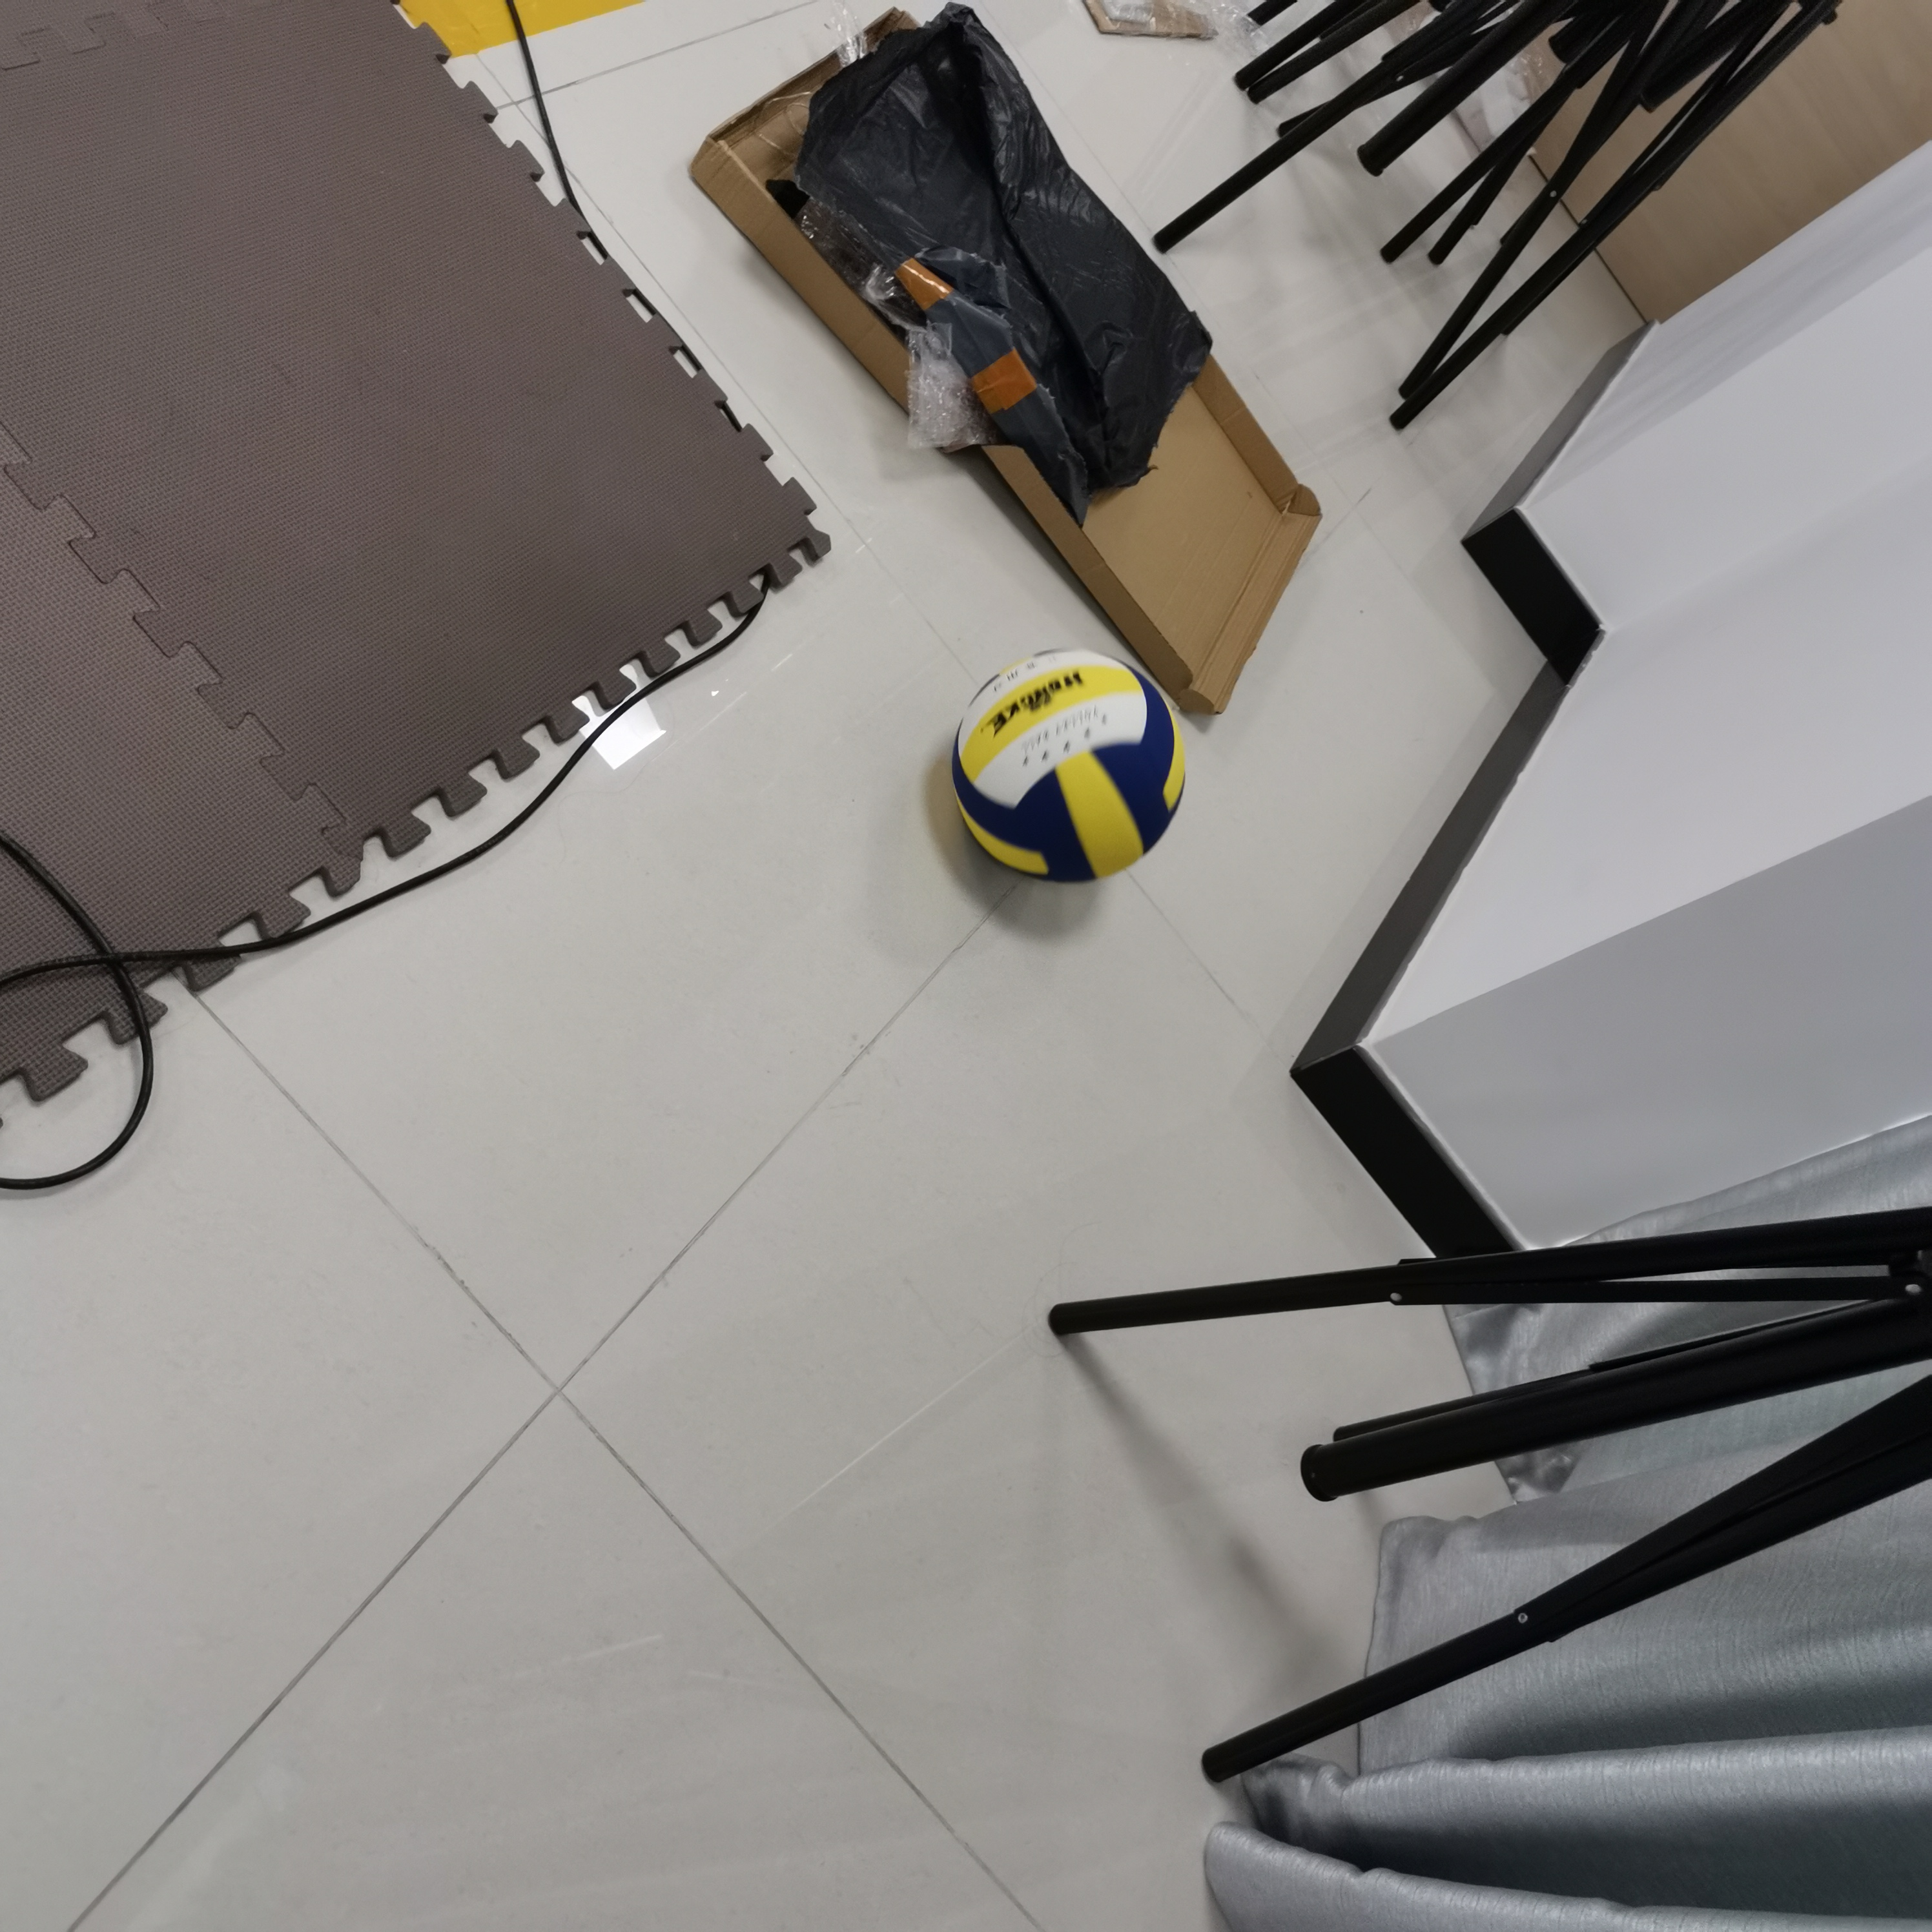volleyball: (959, 646, 1192, 890)
